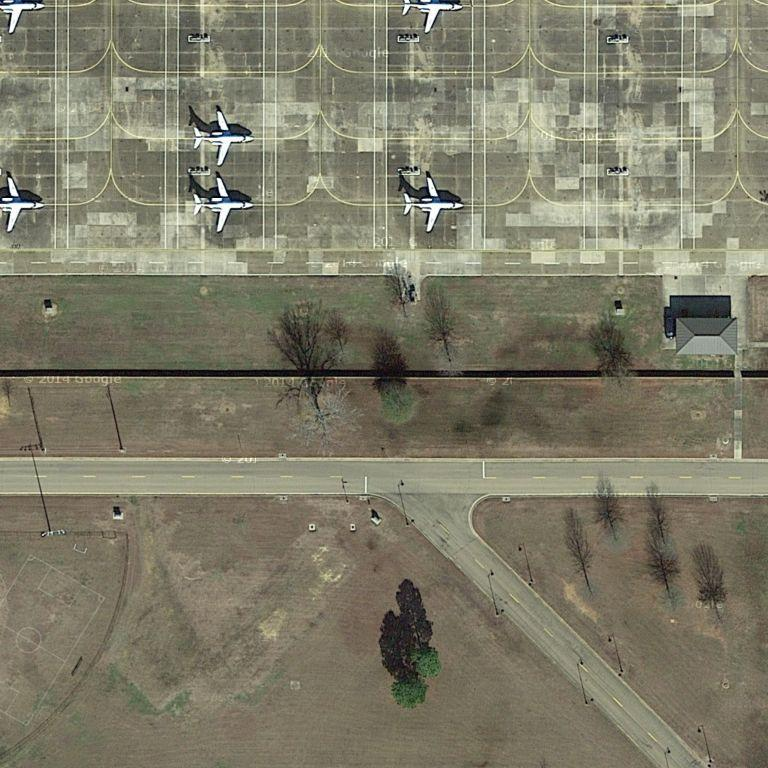plane: (189, 173, 257, 233), (399, 173, 466, 232), (187, 111, 260, 164), (2, 173, 46, 235), (392, 1, 467, 34)
